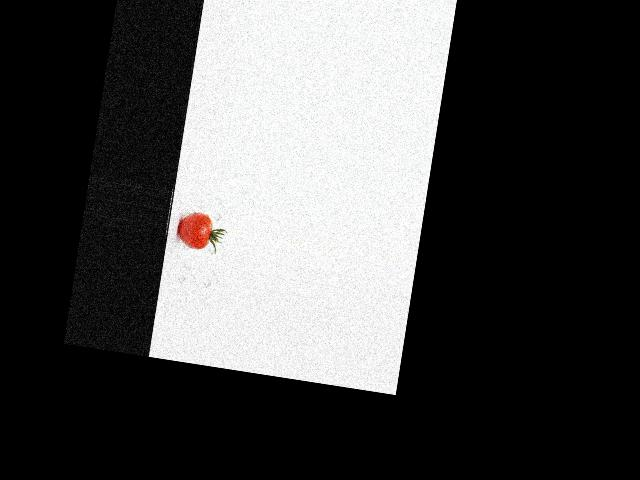tomato: (175, 211, 213, 251)
